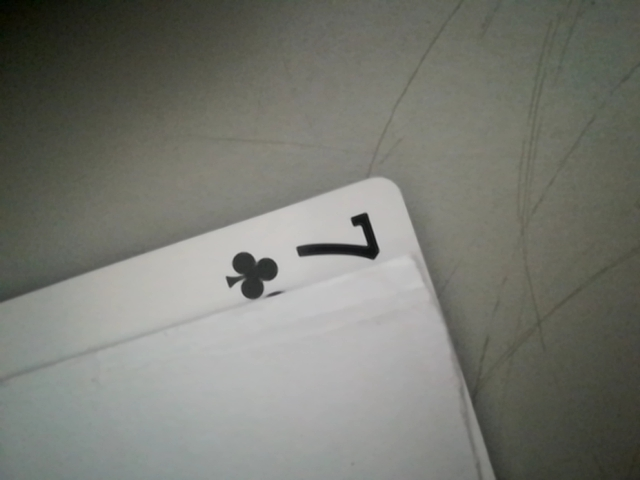mh 7: (196, 205, 404, 301)
